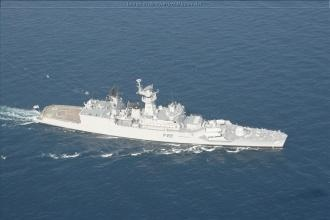warship: (37, 79, 293, 149)
